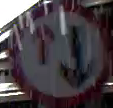Two way: (4, 2, 111, 107)
